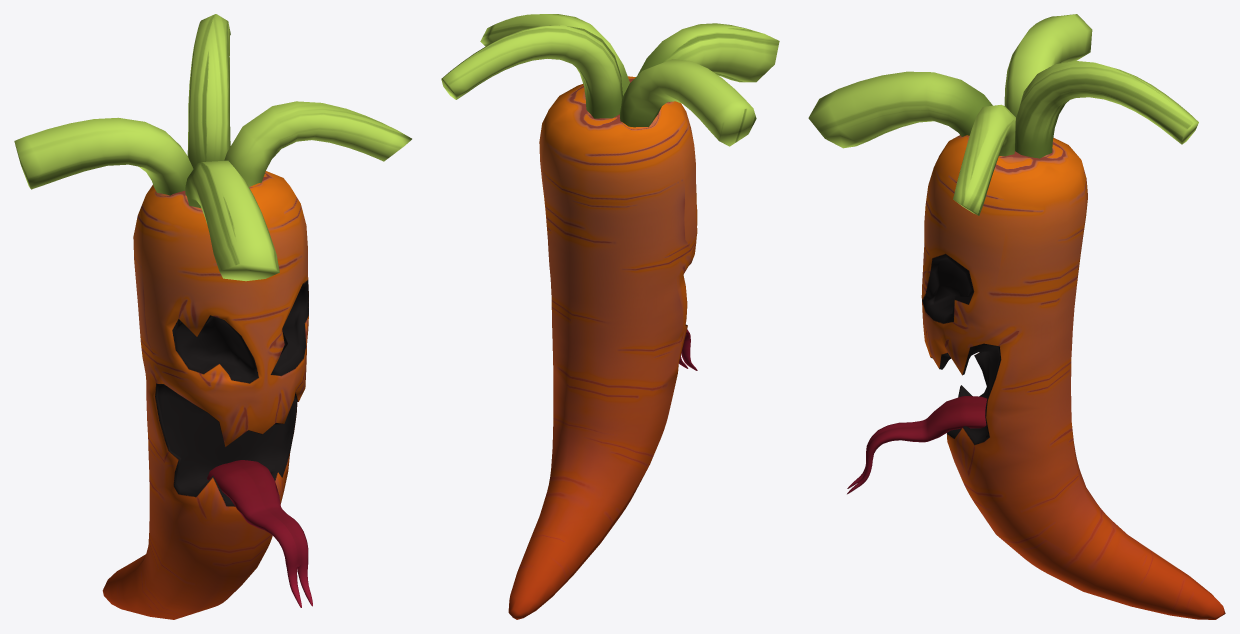
The model's file is Carrot_anim_V9.fbx.
The picture shows the model from 3 angles, left to right: view 1: azimuth 30°, elevation 25°; view 2: azimuth 150°, elevation 25°; view 3: azimuth 270°, elevation 25°; orthographic projection. The views are drawn at different scales.
Parts seen in each view (by area): view 1: Body_l, Hair_l, Tongue_l; view 2: Body_l, Hair_l; view 3: Body_l, Hair_l, Tongue_l.
Boxes of the visible parts, x1=… form: Body_l: x1=102, y1=171, x2=308, y2=619; Hair_l: x1=14, y1=14, x2=411, y2=281; Tongue_l: x1=207, y1=460, x2=312, y2=607; Body_l: x1=508, y1=76, x2=697, y2=619; Hair_l: x1=441, y1=14, x2=779, y2=146; Body_l: x1=921, y1=135, x2=1225, y2=619; Hair_l: x1=808, y1=14, x2=1198, y2=215; Tongue_l: x1=847, y1=396, x2=987, y2=494.
Size of the model in its own units: 168 by 280 by 185.
1 material, 1 textured.
